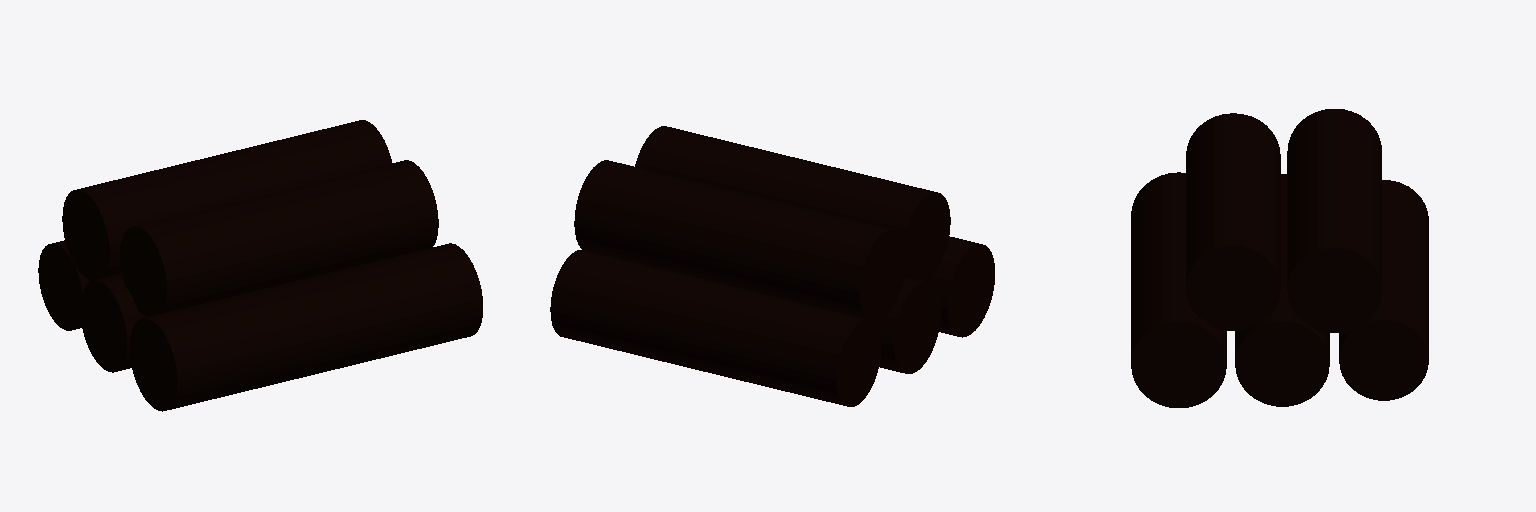
File: campfire.obj
3 views of the same model, side by side, from view 1: azimuth 30°, elevation 25°; view 2: azimuth 150°, elevation 25°; view 3: azimuth 270°, elevation 25° (orthographic).
Visible parts, largest first — view 1: Cylinder.003_Cylinder.007, Cylinder.000_Cylinder.008, Cylinder.004_Cylinder.009, Cylinder.001_Cylinder.005, Cylinder.002_Cylinder.006; view 2: Cylinder.004_Cylinder.009, Cylinder.002_Cylinder.006, Cylinder.000_Cylinder.008, Cylinder.003_Cylinder.007, Cylinder.001_Cylinder.005; view 3: Cylinder.004_Cylinder.009, Cylinder.000_Cylinder.008, Cylinder.003_Cylinder.007, Cylinder.002_Cylinder.006, Cylinder.001_Cylinder.005.
Boxes of the visible parts, <box> form: Cylinder.003_Cylinder.007: <box>130,243,482,411</box>; Cylinder.000_Cylinder.008: <box>120,160,438,316</box>; Cylinder.004_Cylinder.009: <box>62,120,391,280</box>; Cylinder.001_Cylinder.005: <box>80,274,145,372</box>; Cylinder.002_Cylinder.006: <box>38,240,89,330</box>; Cylinder.004_Cylinder.009: <box>574,160,906,321</box>; Cylinder.002_Cylinder.006: <box>550,250,881,406</box>; Cylinder.000_Cylinder.008: <box>635,126,950,281</box>; Cylinder.003_Cylinder.007: <box>927,236,994,337</box>; Cylinder.001_Cylinder.005: <box>874,278,940,373</box>; Cylinder.004_Cylinder.009: <box>1287,109,1381,332</box>; Cylinder.000_Cylinder.008: <box>1186,113,1280,330</box>; Cylinder.003_Cylinder.007: <box>1131,172,1226,407</box>; Cylinder.002_Cylinder.006: <box>1339,180,1428,400</box>; Cylinder.001_Cylinder.005: <box>1235,174,1329,406</box>.
Size of the model in its own units: 1.86 by 0.9075 by 1.57.